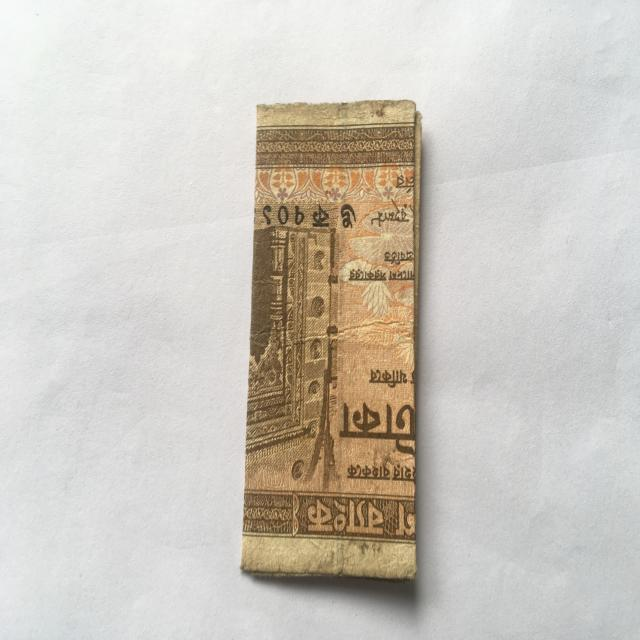Taka: (242, 94, 424, 584)
